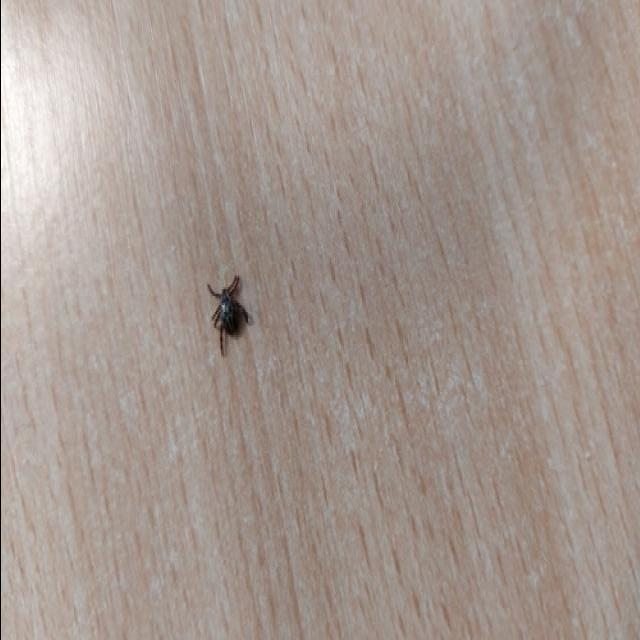Dermacentor Reticulatus-M: (207, 273, 253, 360)
